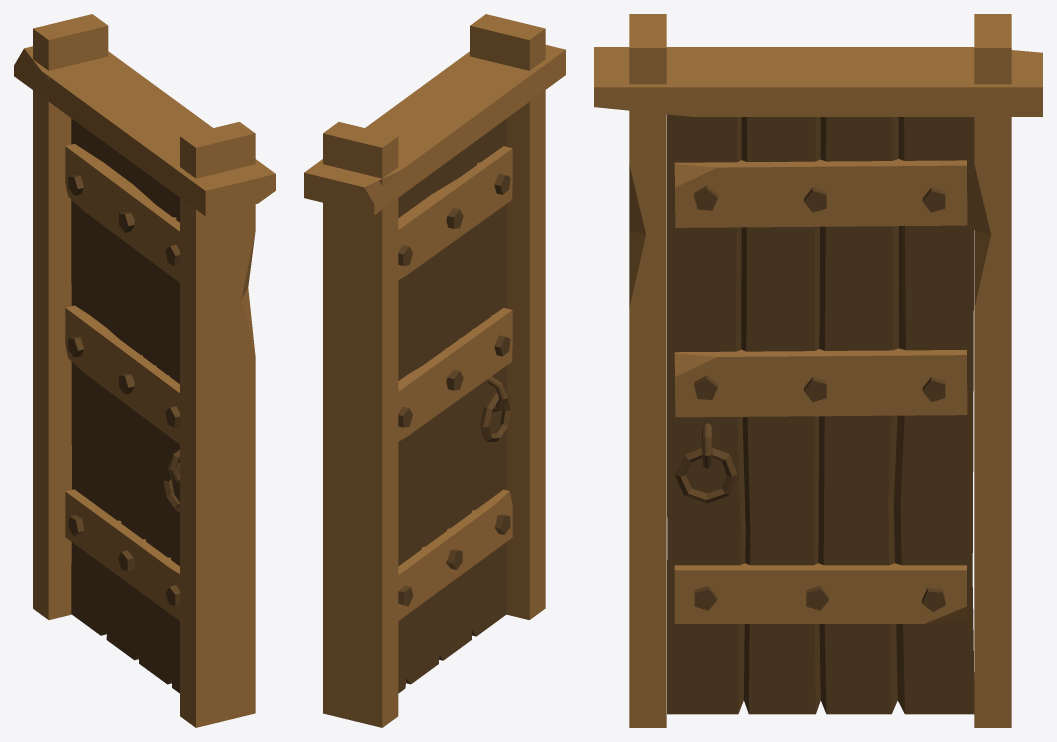
The model's file is door.fbx.
The picture shows the model from 3 angles, left to right: view 1: azimuth 30°, elevation 25°; view 2: azimuth 150°, elevation 25°; view 3: azimuth 270°, elevation 25°; orthographic projection. The views are drawn at different scales.
Parts seen in each view (by area): view 1: door; view 2: door; view 3: door.
Boxes of the visible parts, x1,y1,x2,y2 form: door: (14,14,275,727); door: (304,14,565,727); door: (594,14,1042,727).
Bounding box in the file's own units: 30.53 × 240 × 144.
